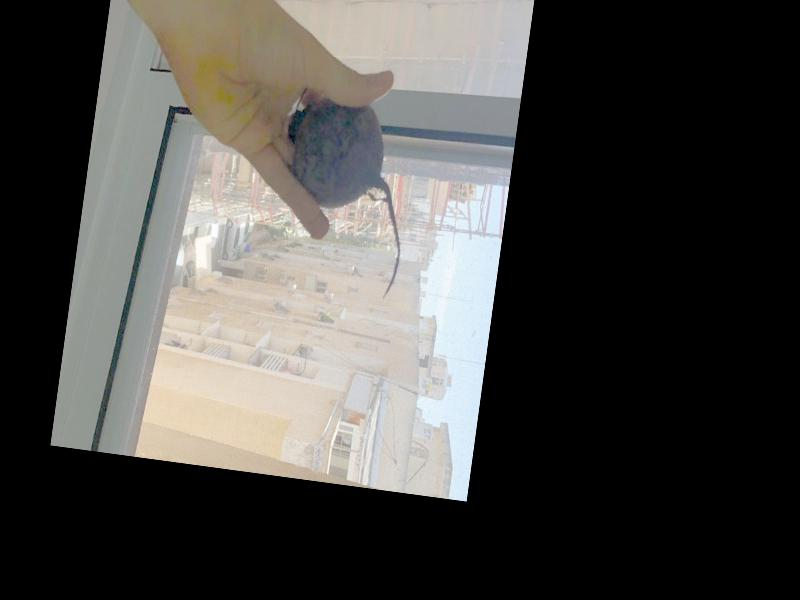Beet: (267, 96, 420, 300)
